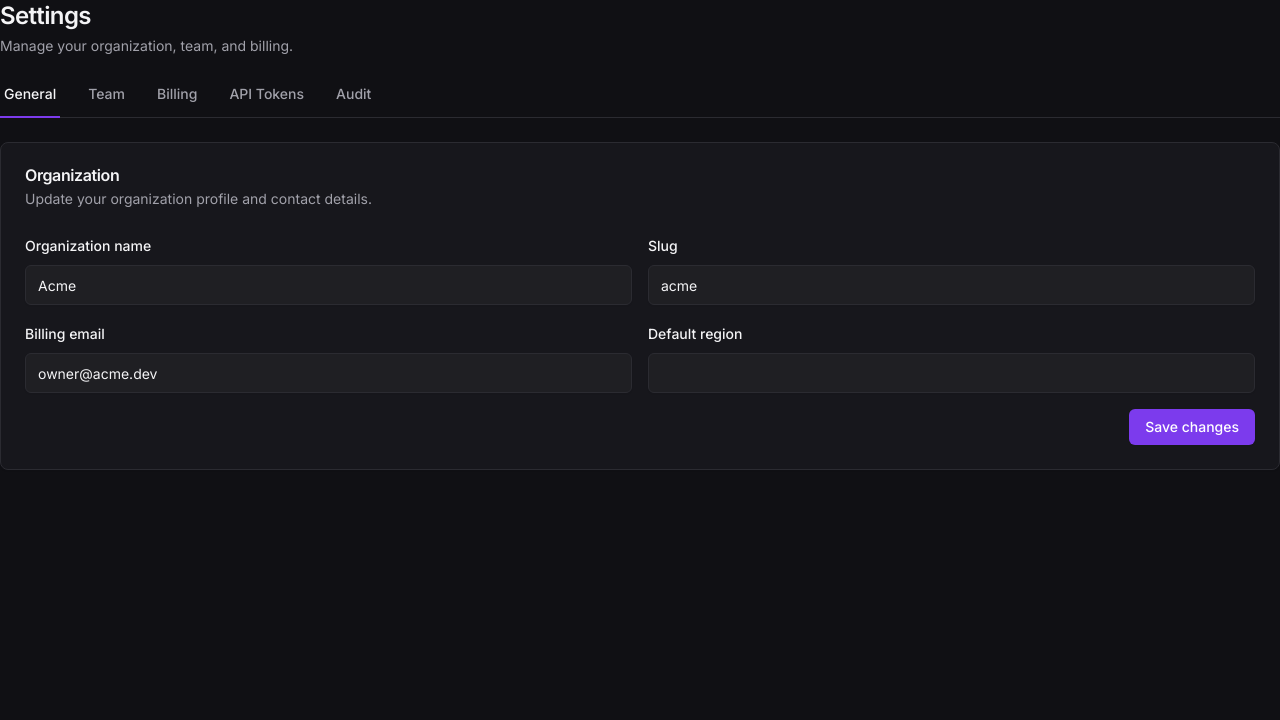
Test case: Settings — Billing hourly rates from api.getPricing (invariant #1) › renders only active hourly rates, sorted, from the API
What coordinates should you click on to do the following:
click the tab "Billing"
I would click on:
 (177, 99)
Its box is [153, 80, 201, 118].
(page scrolled)
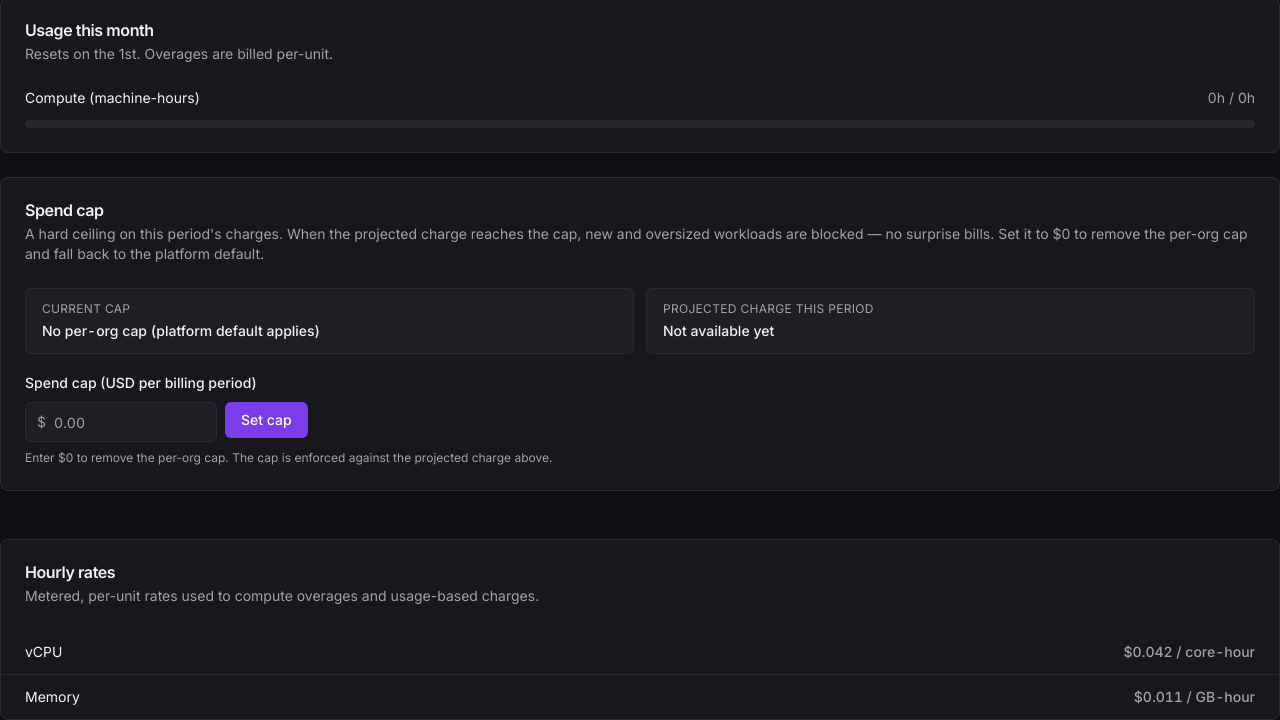
Expected: the heading "Hourly rates" is shown, [25, 562, 115, 582]
Expected: the text "vCPU" is shown, [25, 642, 62, 662]
Expected: the text "$0.042 / core-hour" is shown, [1124, 642, 1255, 662]
